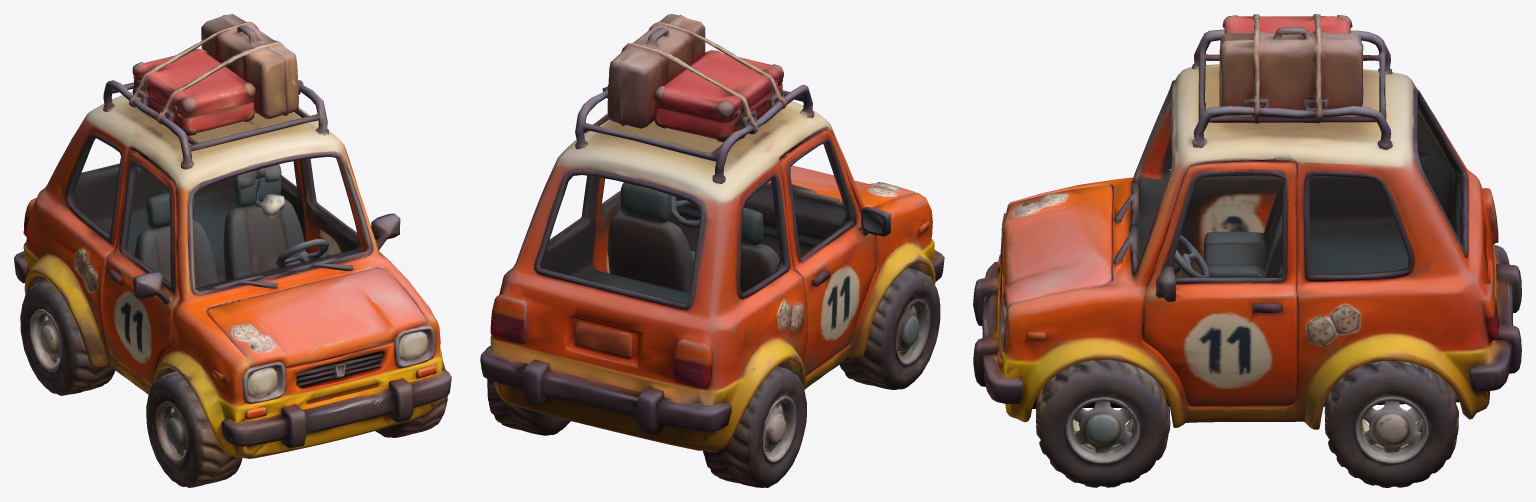
File: enemy_car_orange.glb
3 renders of one model, left to right at view 1: azimuth 30°, elevation 25°; view 2: azimuth 150°, elevation 25°; view 3: azimuth 270°, elevation 25°, orthographic. The views are drawn at different scales.
Visible parts, largest first — view 1: tripo_part_0, tripo_part_5, tripo_part_2, tripo_part_4, tripo_part_8, tripo_part_6, tripo_part_9, tripo_part_7, tripo_part_13, tripo_part_12, tripo_part_3, tripo_part_11 (+2 smaller); view 2: tripo_part_0, tripo_part_5, tripo_part_4, tripo_part_2, tripo_part_6, tripo_part_8, tripo_part_7, tripo_part_9, tripo_part_1, tripo_part_15; view 3: tripo_part_0, tripo_part_3, tripo_part_1, tripo_part_8, tripo_part_7, tripo_part_9, tripo_part_5, tripo_part_10, tripo_part_11, tripo_part_14.
Boxes of the visible parts, bbox=[...] form: tripo_part_0: bbox=[14, 91, 451, 458]; tripo_part_5: bbox=[129, 48, 255, 135]; tripo_part_2: bbox=[146, 371, 242, 487]; tripo_part_4: bbox=[20, 280, 115, 395]; tripo_part_8: bbox=[175, 14, 298, 118]; tripo_part_6: bbox=[223, 176, 306, 280]; tripo_part_9: bbox=[134, 192, 219, 288]; tripo_part_7: bbox=[103, 80, 328, 169]; tripo_part_13: bbox=[241, 361, 286, 403]; tripo_part_12: bbox=[236, 164, 284, 218]; tripo_part_3: bbox=[375, 360, 447, 437]; tripo_part_11: bbox=[276, 239, 328, 267]; tripo_part_0: bbox=[480, 101, 944, 452]; tripo_part_5: bbox=[654, 44, 787, 142]; tripo_part_4: bbox=[703, 366, 806, 487]; tripo_part_2: bbox=[839, 268, 940, 389]; tripo_part_6: bbox=[607, 182, 695, 292]; tripo_part_8: bbox=[607, 14, 718, 128]; tripo_part_7: bbox=[575, 84, 814, 183]; tripo_part_9: bbox=[740, 207, 779, 291]; tripo_part_1: bbox=[487, 379, 570, 435]; tripo_part_15: bbox=[859, 206, 891, 236]; tripo_part_0: bbox=[973, 64, 1521, 429]; tripo_part_3: bbox=[1032, 359, 1170, 487]; tripo_part_1: bbox=[1324, 361, 1458, 487]; tripo_part_8: bbox=[1219, 19, 1363, 116]; tripo_part_7: bbox=[1192, 29, 1392, 149]; tripo_part_9: bbox=[1204, 182, 1282, 277]; tripo_part_5: bbox=[1222, 14, 1352, 33]; tripo_part_10: bbox=[1222, 86, 1328, 123]; tripo_part_11: bbox=[1172, 235, 1209, 277]; tripo_part_14: bbox=[1155, 266, 1181, 301].
Bounding box in the file's own units: 0.6249 × 0.8129 × 0.9814.
1 material, 1 textured.
